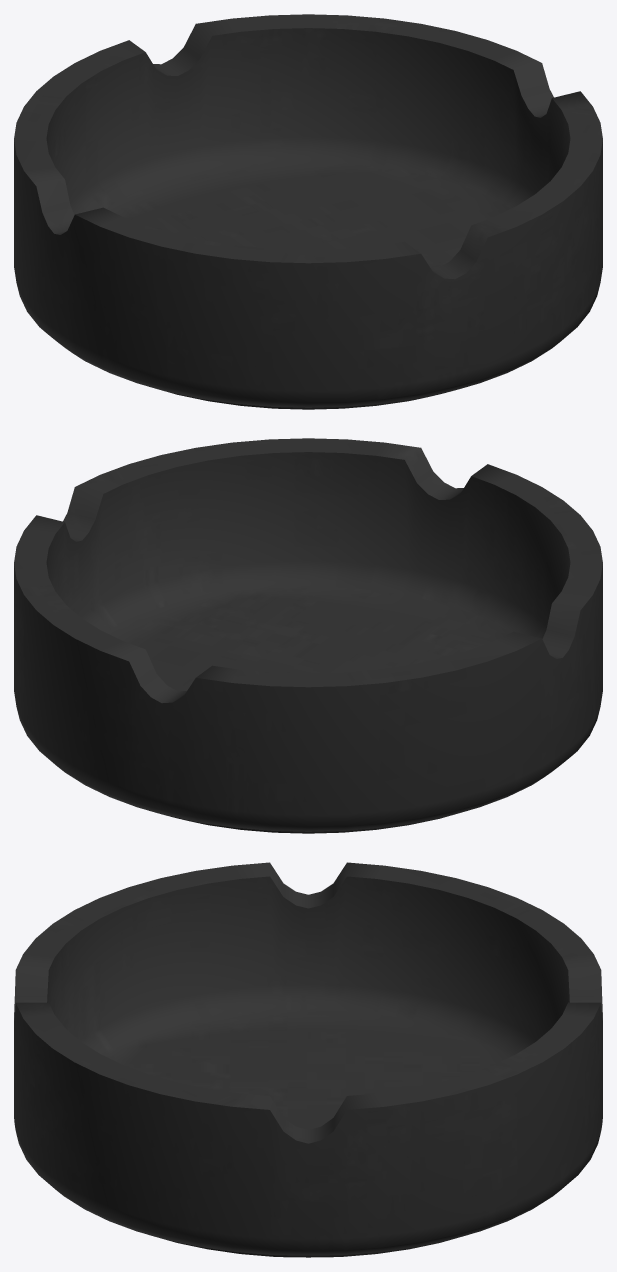
3 views of the same model, one above another, from view 1: azimuth 30°, elevation 25°; view 2: azimuth 150°, elevation 25°; view 3: azimuth 270°, elevation 25° (orthographic).
Visible parts, largest first — view 1: Material_46; view 2: Material_46; view 3: Material_46.
Part boxes in pixels (box(x1,y1,x2,y2)): Material_46: box(14, 14, 602, 409); Material_46: box(14, 438, 602, 833); Material_46: box(14, 862, 602, 1257).
Bounding box in the file's own units: 0.105 × 0.0316 × 0.105.
Materials: 1 (1 with a texture image).
